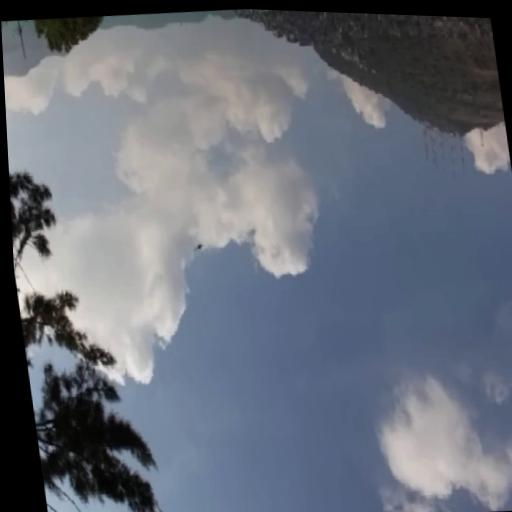drones: (188, 239, 206, 258)
